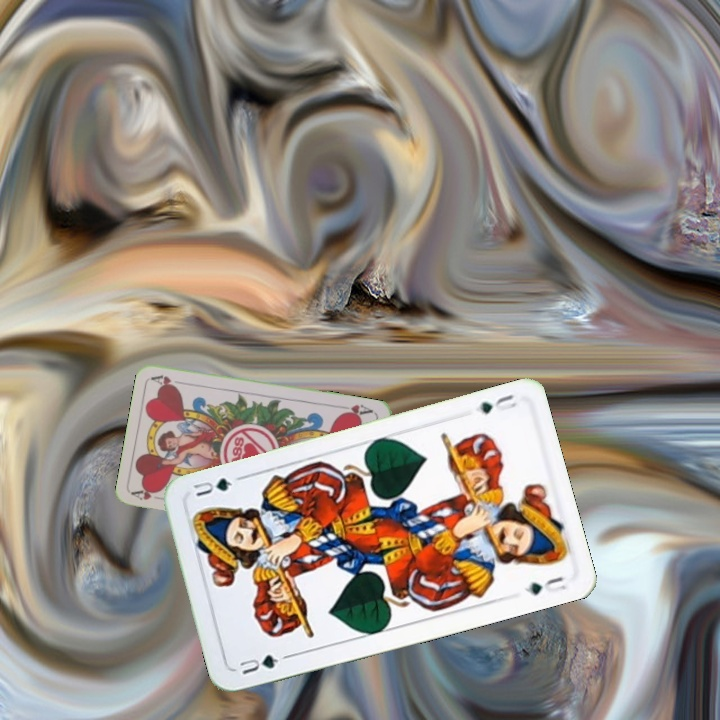GU: (235, 650, 291, 677), (475, 390, 519, 417)
HA: (336, 400, 376, 420), (129, 483, 164, 503)
